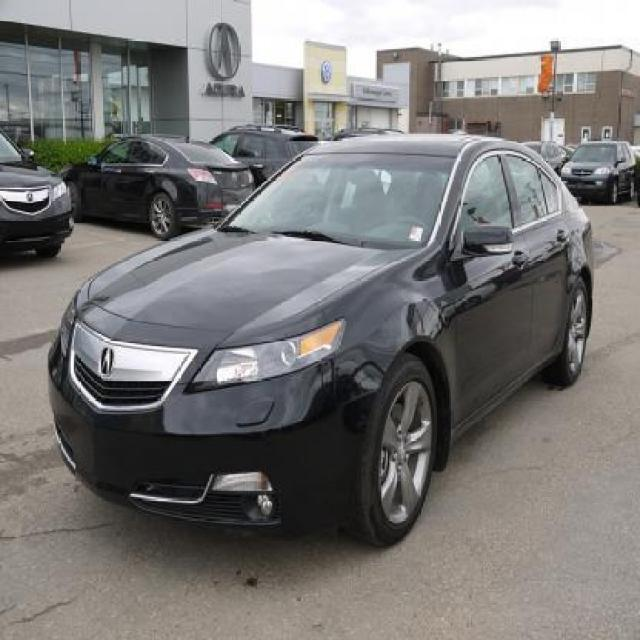vehicle: (52, 120, 620, 562)
